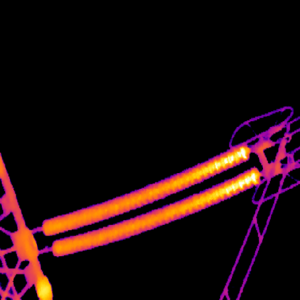insulator: (43, 137, 261, 256)
